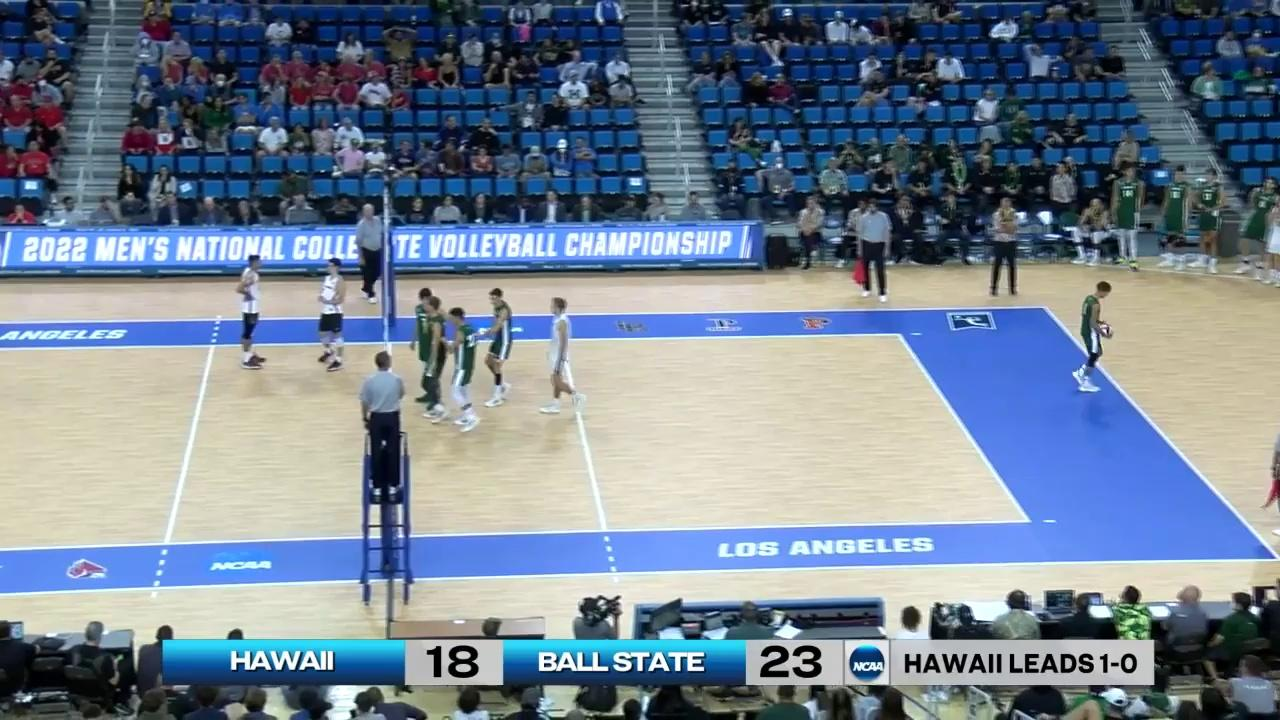player: (542, 296, 587, 416), (1070, 282, 1115, 391), (408, 287, 447, 409), (482, 287, 520, 411), (418, 297, 453, 426), (313, 260, 352, 372), (450, 307, 481, 435), (236, 255, 267, 367)
refree: (360, 353, 410, 486), (856, 199, 890, 299), (356, 203, 386, 305)
